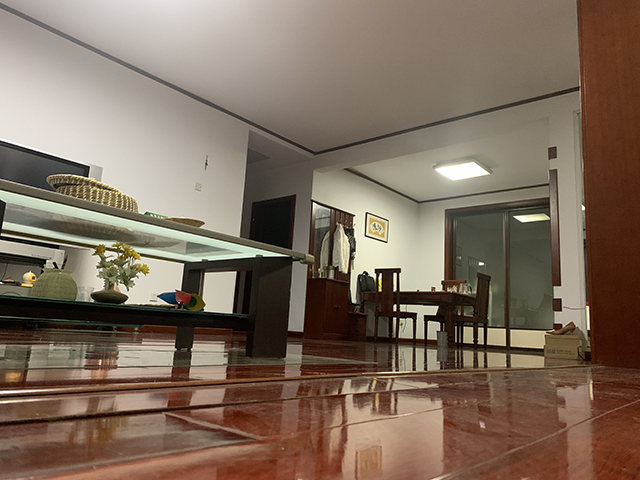cabinet: (301, 277, 349, 345), (345, 312, 368, 342)
stool: (421, 270, 493, 360), (370, 267, 418, 348), (422, 279, 472, 353)
table: (1, 172, 316, 360), (358, 290, 488, 352)
trashcan: (435, 330, 449, 349)
